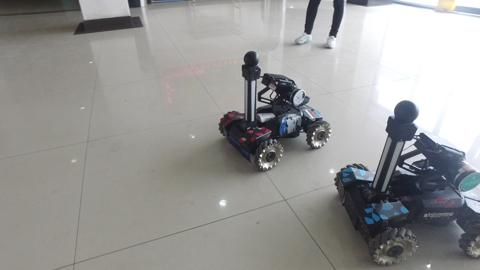chariot: (334, 95, 480, 267), (211, 50, 334, 174)
